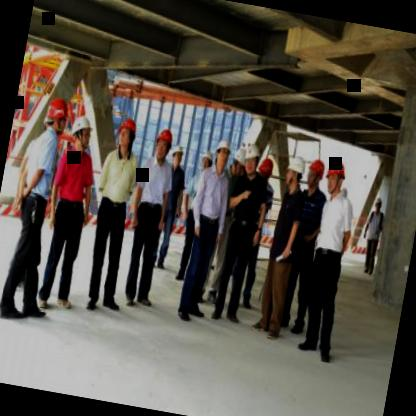helmet: (40, 92, 70, 138), (66, 110, 95, 154), (150, 126, 176, 166), (323, 159, 349, 197), (240, 137, 264, 178), (115, 114, 139, 154), (282, 152, 306, 192), (302, 155, 327, 193), (211, 136, 233, 172), (254, 152, 276, 188), (229, 144, 247, 180), (169, 140, 188, 172), (199, 146, 216, 174)
